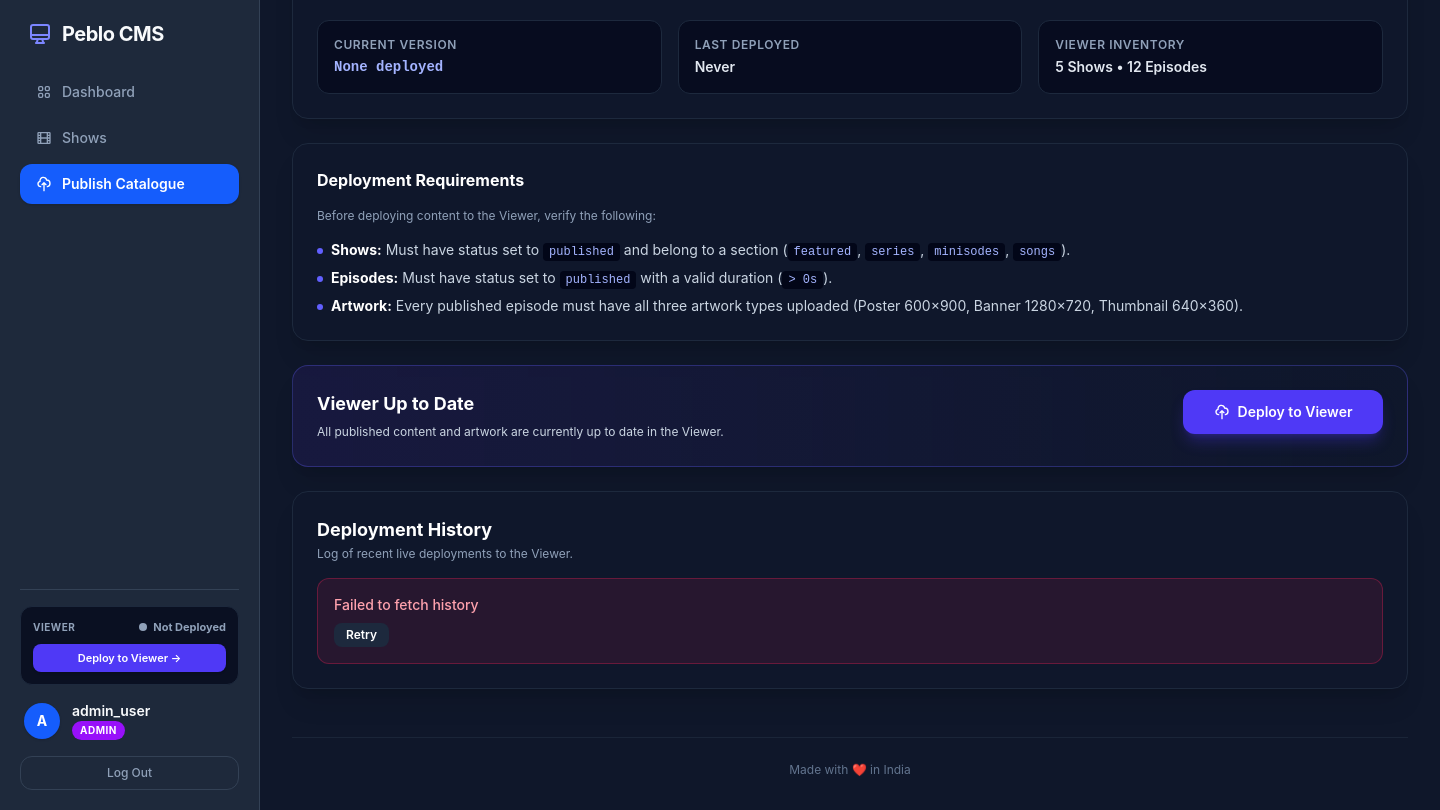
Scenario: CMS Catalogue Publishing › displays history error state and allows retry
(page scrolled)
Expected: the message "Failed to fetch history Retry" is shown, [317, 578, 1383, 664]
Click the button with test id "history-retry-btn". click: x=362, y=634
box: [334, 622, 389, 646]
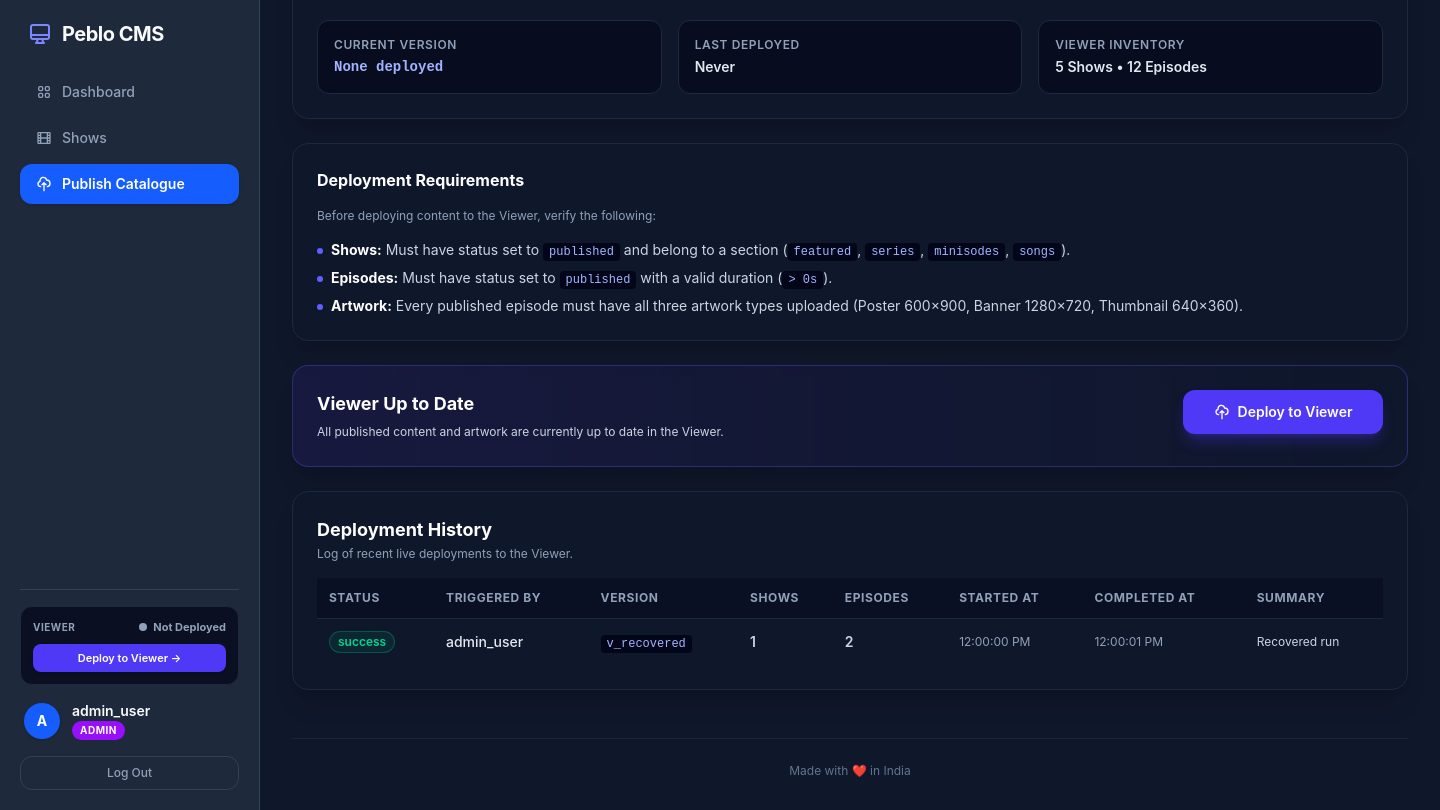
Expected: the table with test id "publish-history-table" is shown, [317, 578, 1383, 664]
Expected: the text "v_recovered" is shown, [601, 634, 692, 652]
